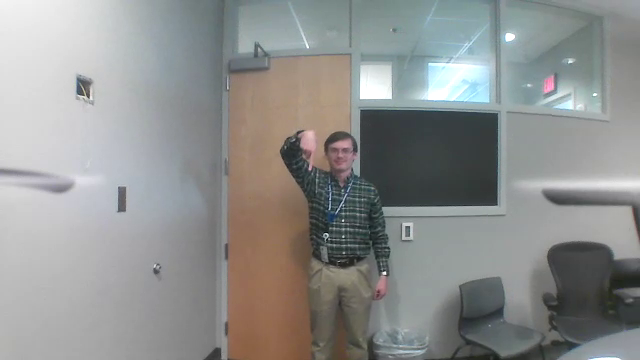down: (297, 131, 319, 175)
